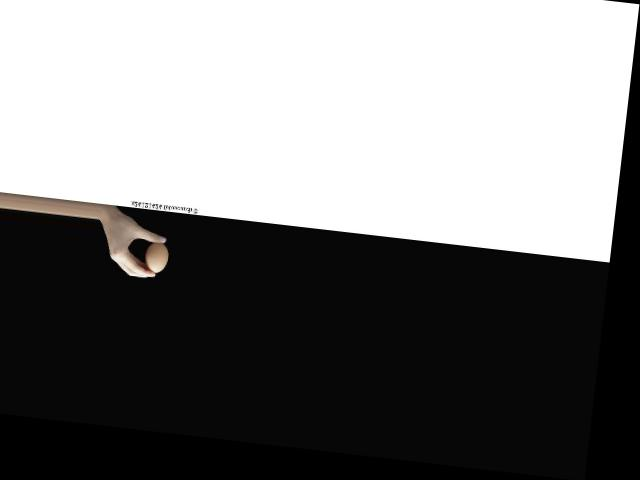egg: (144, 241, 169, 274)
